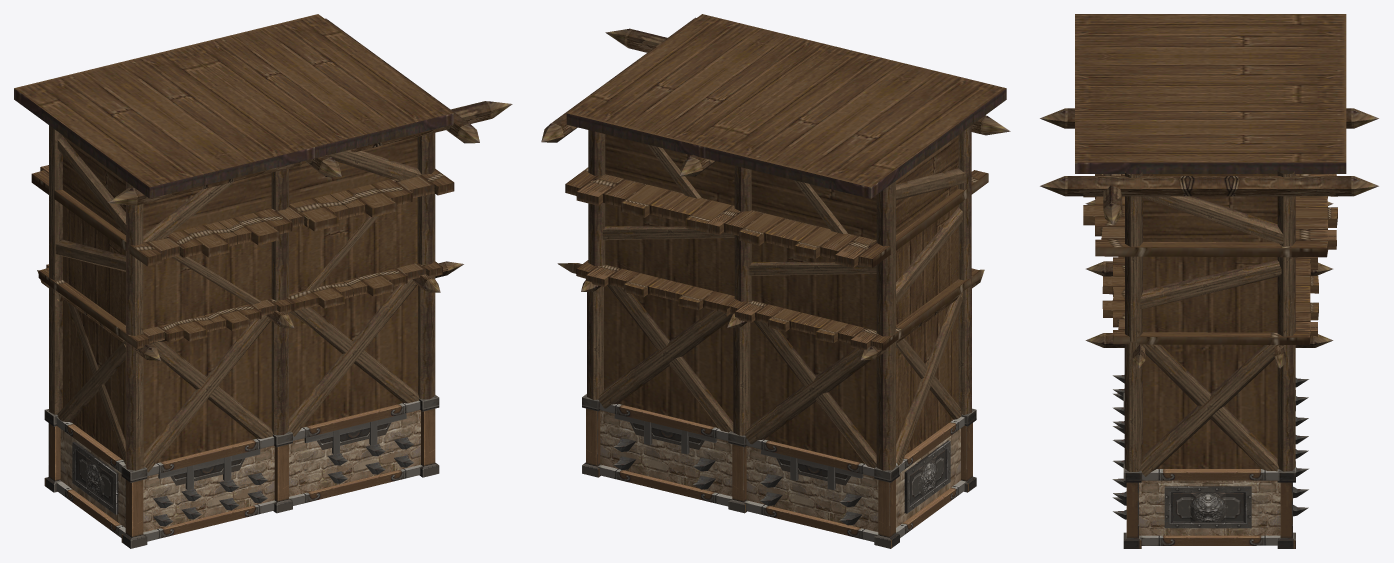
The model's file is Item_3001_dimianwujian_menbian.FBX.
3 renders of one model, left to right at view 1: azimuth 30°, elevation 25°; view 2: azimuth 150°, elevation 25°; view 3: azimuth 270°, elevation 25°, orthographic.
Visible parts, largest first — view 1: Item_3001_dimianwujian_menbian; view 2: Item_3001_dimianwujian_menbian; view 3: Item_3001_dimianwujian_menbian.
Part boxes in pixels (bbox=[...]): Item_3001_dimianwujian_menbian: bbox=[14, 14, 512, 548]; Item_3001_dimianwujian_menbian: bbox=[541, 14, 1010, 548]; Item_3001_dimianwujian_menbian: bbox=[1040, 14, 1378, 548].
Size of the model in its own units: 475 by 427 by 345.
